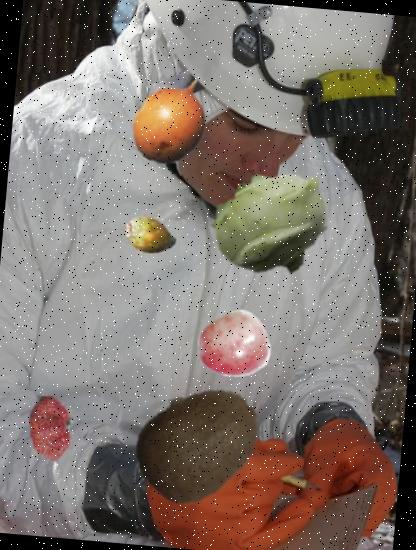Cactus: (122, 209, 179, 266)
Cherry: (196, 308, 275, 386)
Granadilla: (122, 68, 224, 172)
Kiwi: (127, 371, 276, 518)
Kohlrabi: (207, 156, 342, 290)
Strawberry: (18, 394, 88, 463)
